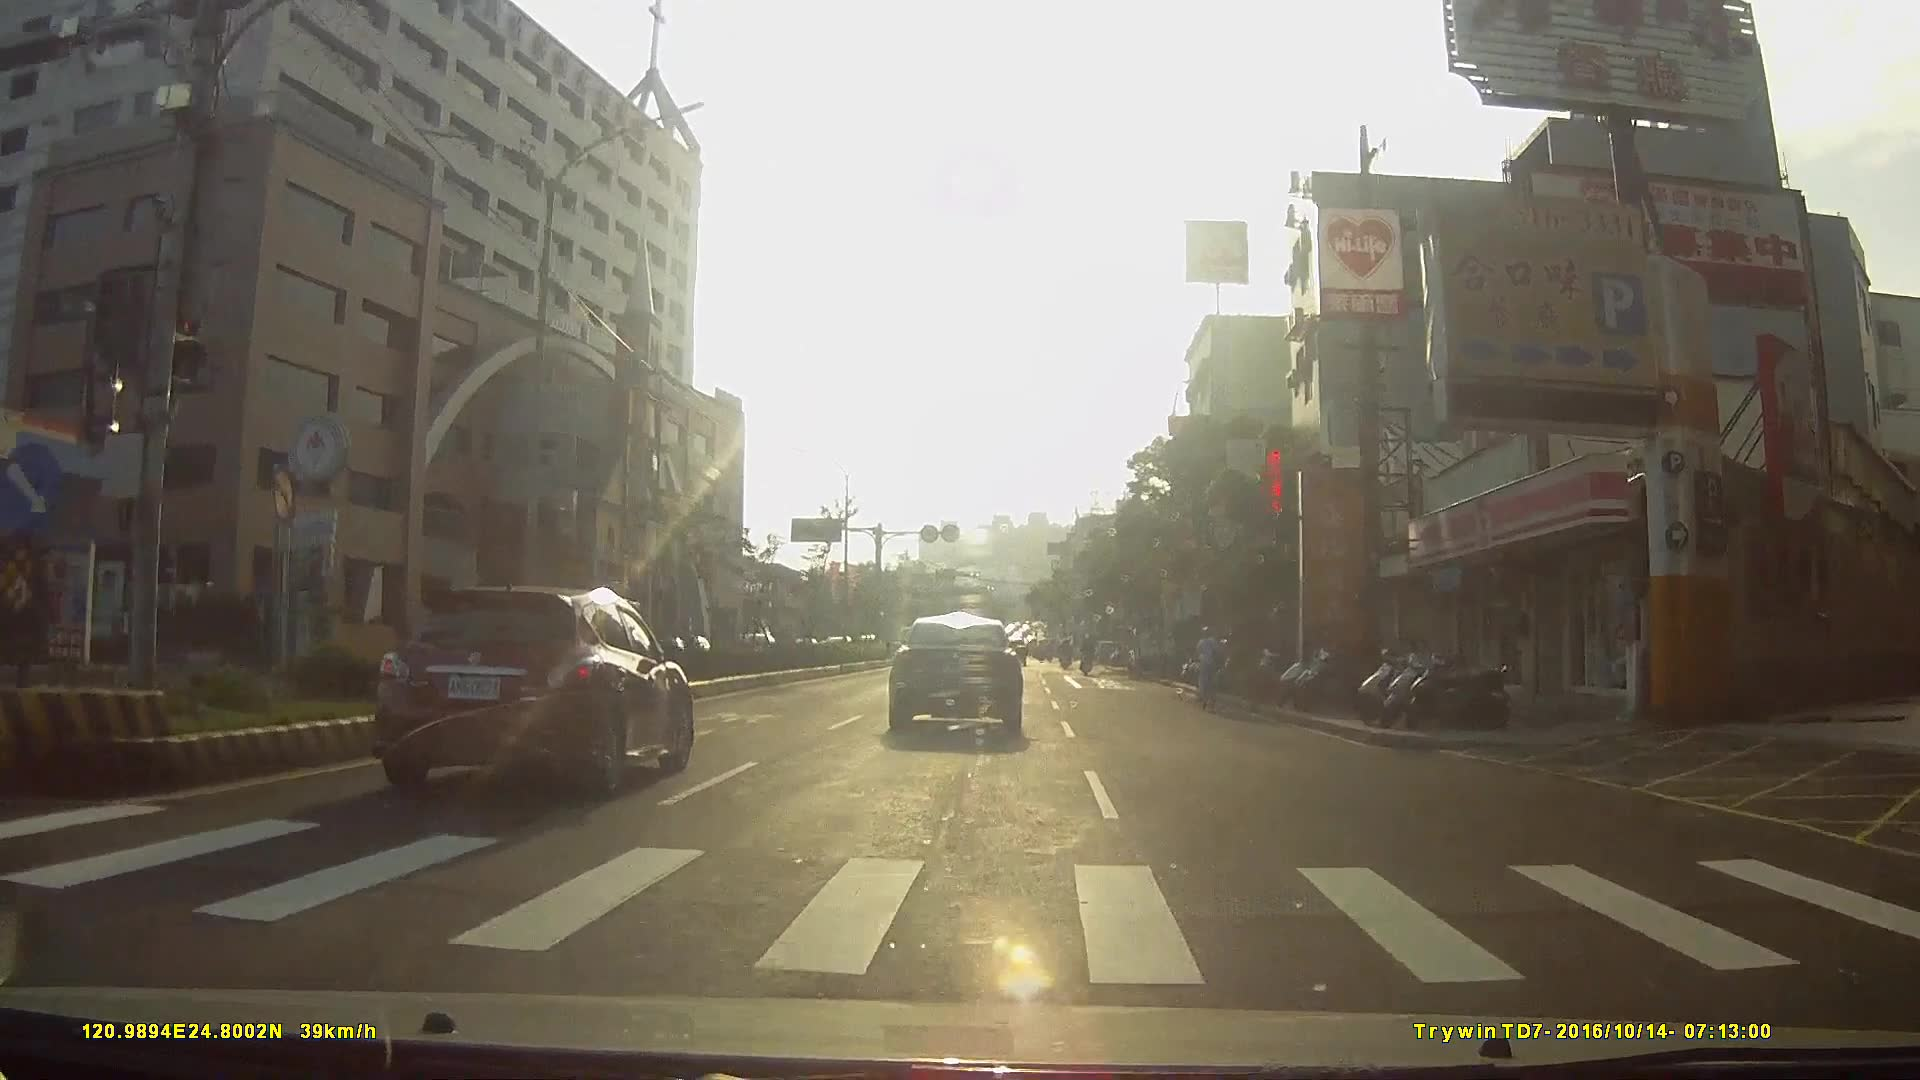rider: (1191, 621, 1227, 705)
vehicle: (365, 574, 703, 804), (887, 611, 1037, 743), (763, 607, 822, 662), (1129, 623, 1180, 675)
